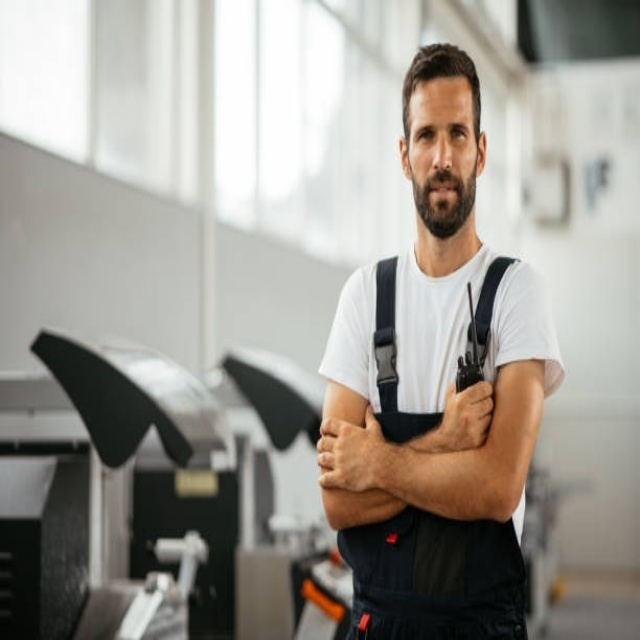Sin_gafas: (411, 115, 473, 155)
Sin_guantes: (315, 408, 389, 498), (441, 369, 494, 450)
Sin_mascara: (420, 174, 464, 220)
